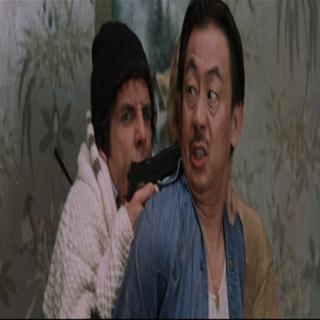gun: (121, 131, 185, 236)
